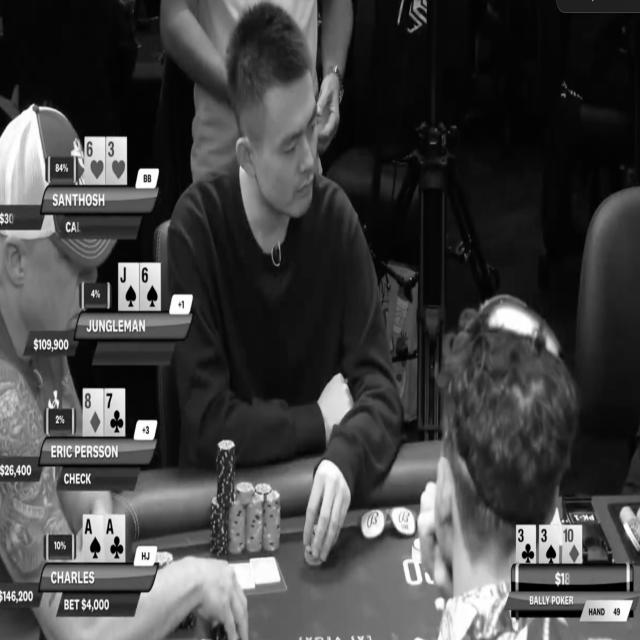10D: (562, 526, 582, 564)
3C: (516, 526, 536, 563)
3H: (107, 140, 126, 184)
3S: (541, 526, 559, 564)
6H: (86, 139, 105, 182)
6S: (141, 264, 160, 309)
7C: (105, 391, 125, 435)
8D: (84, 390, 103, 436)
AC: (106, 515, 125, 561)
AS: (84, 516, 104, 562)
JS: (120, 266, 139, 310)
